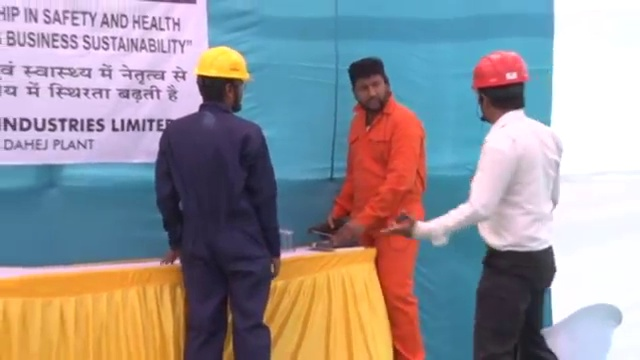helmet: (469, 48, 530, 90), (193, 46, 253, 83)
helmet_off: (347, 56, 393, 111)
helmet_on: (469, 48, 533, 122), (191, 46, 253, 115)
person: (381, 48, 565, 360), (156, 45, 282, 360), (328, 55, 429, 360)
